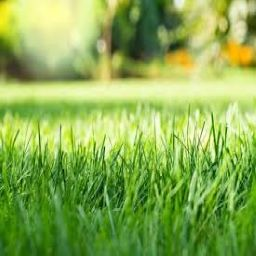grass: (2, 84, 252, 255)
